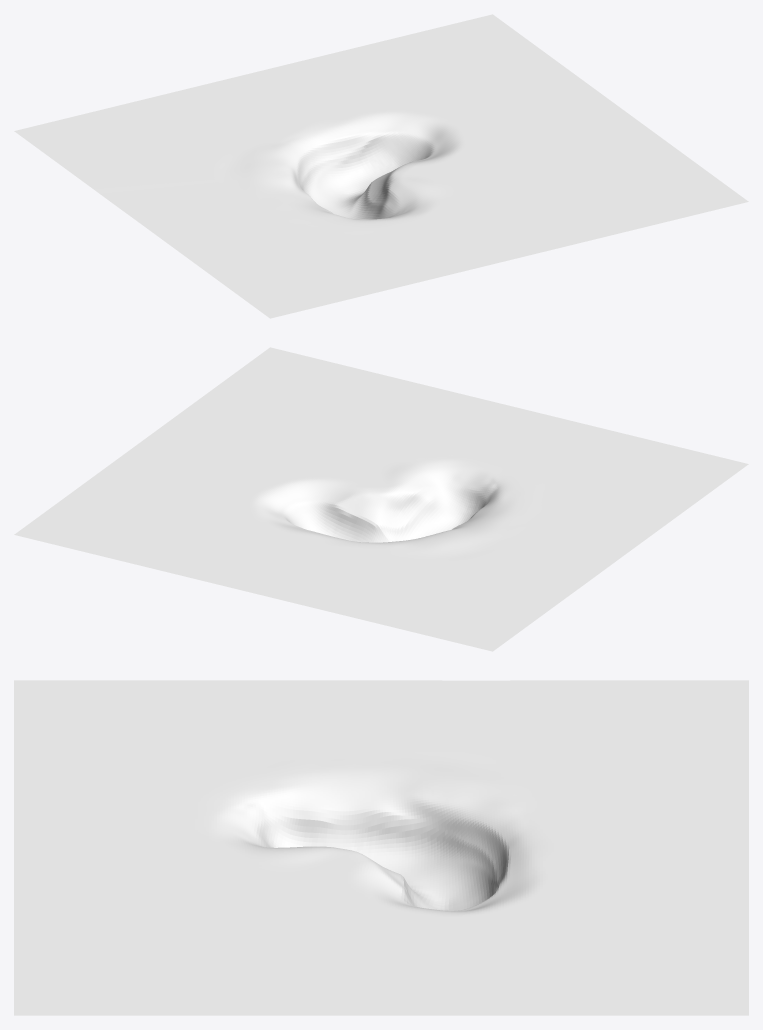
The model's file is Lake_Sculpt.glb.
3 views of the same model, one above another, from view 1: azimuth 30°, elevation 25°; view 2: azimuth 150°, elevation 25°; view 3: azimuth 270°, elevation 25° (orthographic). The views are drawn at different scales.
Visible parts, largest first — view 1: Plane; view 2: Plane; view 3: Plane.
Boxes of the visible parts, x1,y1,x2,y2 form: Plane: (14,14,748,318); Plane: (14,347,748,651); Plane: (14,680,748,1015).
Bounding box in the file's own units: 106 × 9.22 × 98.04.
1 material, 1 textured.
